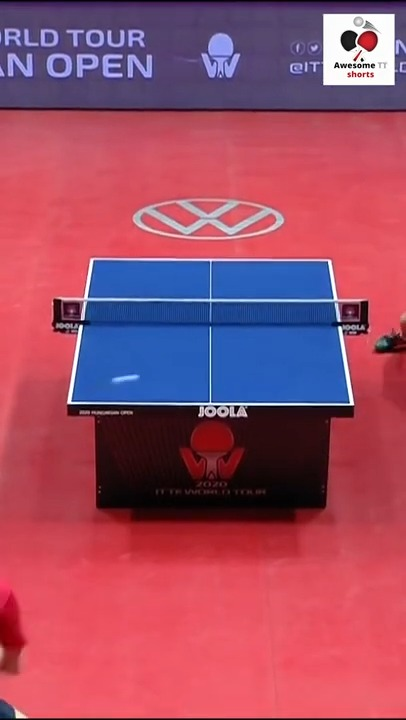Ball: (116, 372, 140, 384)
